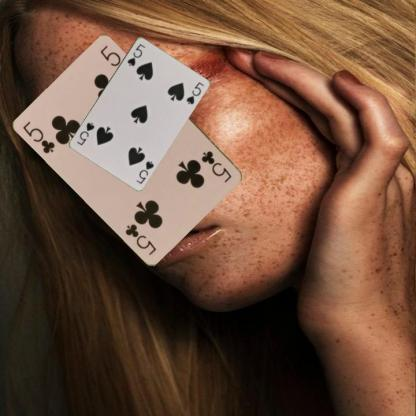5c: (20, 118, 57, 155), (199, 148, 233, 184)
5s: (133, 158, 155, 185), (125, 41, 146, 67)
